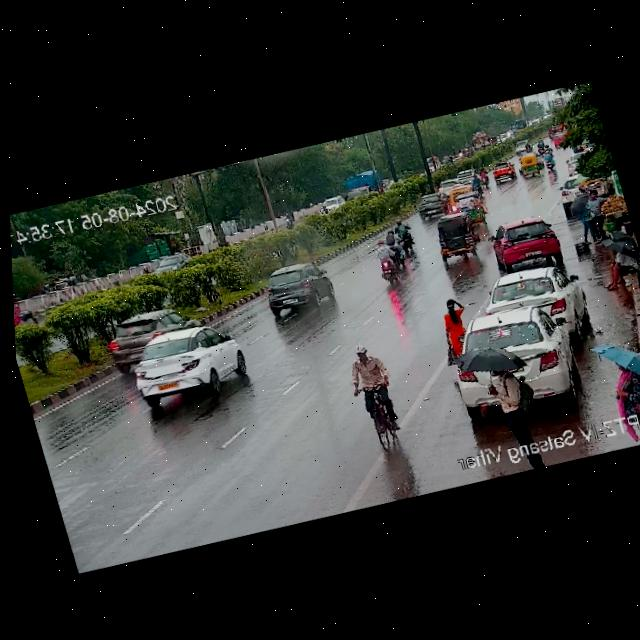car: (438, 301, 580, 410), (115, 322, 252, 416), (476, 255, 594, 351), (97, 298, 216, 373), (485, 212, 564, 274), (258, 256, 338, 316), (554, 166, 612, 211), (434, 211, 480, 260), (411, 190, 452, 222), (150, 250, 194, 278), (454, 189, 485, 222), (515, 151, 547, 181), (487, 158, 520, 187), (561, 149, 595, 177), (13, 290, 33, 332), (318, 192, 348, 214), (454, 166, 481, 186), (550, 130, 571, 148), (512, 138, 532, 155), (542, 149, 557, 169), (442, 154, 454, 165)
motorcycle: (372, 238, 402, 286), (390, 217, 418, 255), (15, 309, 40, 333), (475, 165, 490, 188), (281, 212, 297, 232)
person: (343, 339, 411, 448), (483, 353, 546, 456), (426, 294, 479, 367), (591, 233, 640, 291), (603, 354, 640, 420), (581, 186, 615, 241)
truck: (339, 167, 387, 205), (468, 127, 499, 152), (508, 117, 530, 136), (548, 95, 567, 112)
